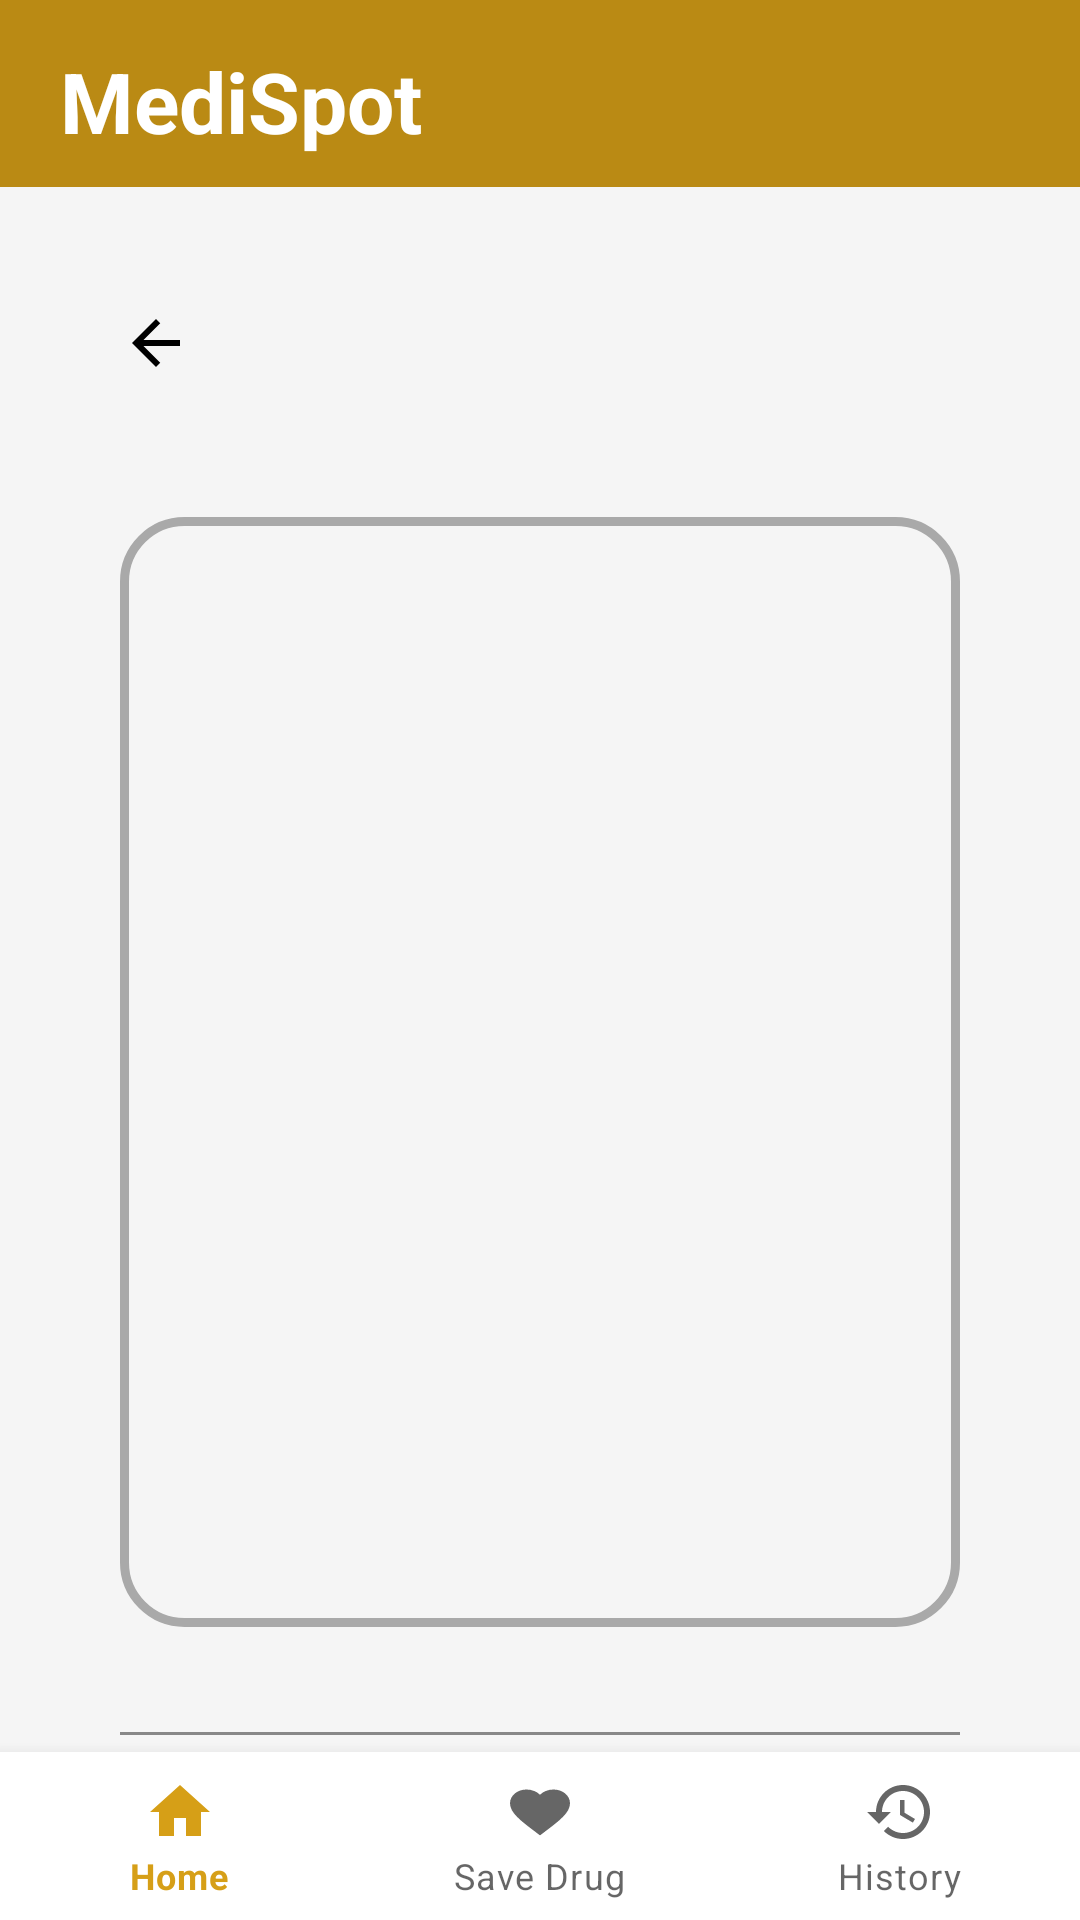

Point at icon controls on the screen. Image size 1080×1920, points as point (x, y).
back: point (156, 343)
